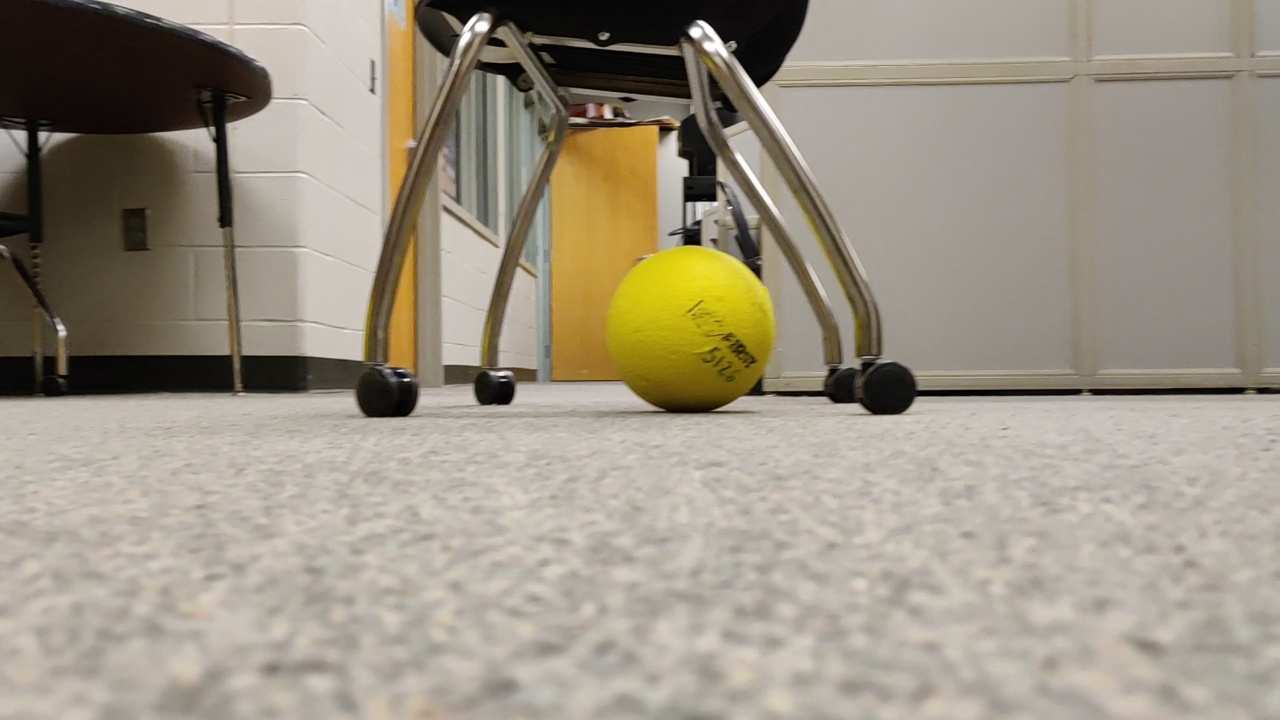Ball: (603, 240, 782, 412)
